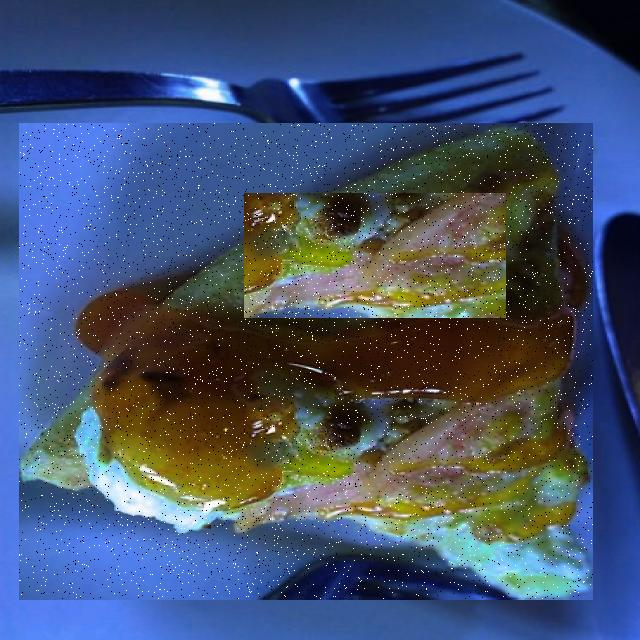Ham: (244, 194, 506, 318)
Pizza: (19, 124, 593, 599)
